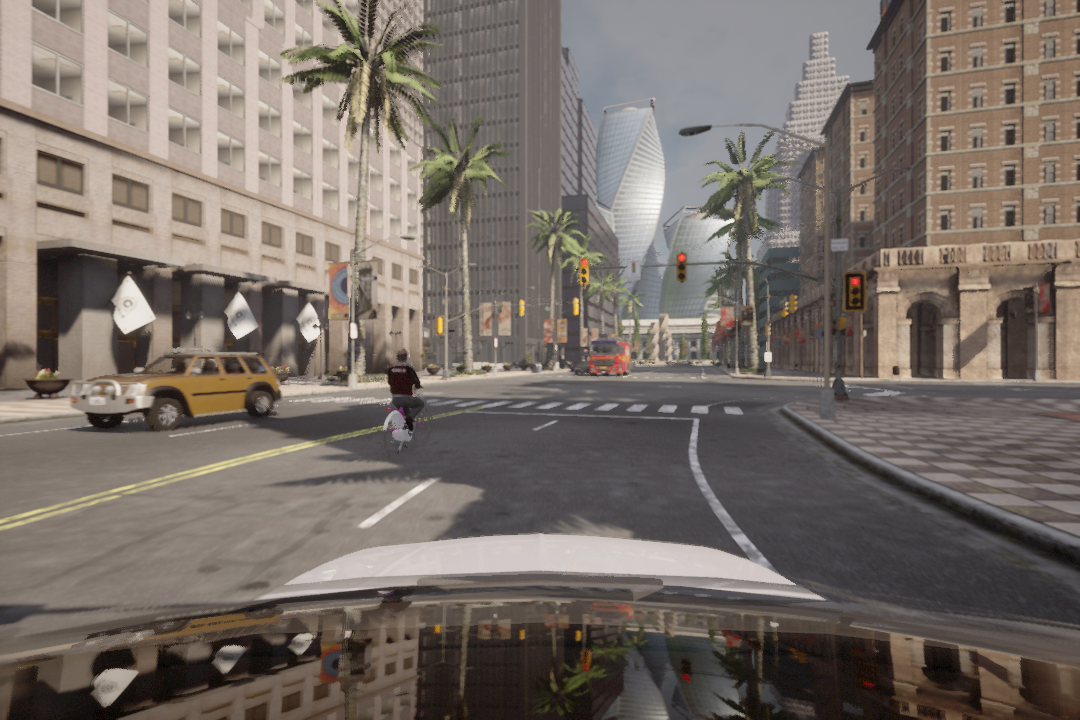TrafficLight: (843, 274, 861, 314), (676, 254, 687, 285), (579, 259, 587, 285)
walkside: (297, 390, 744, 420)
